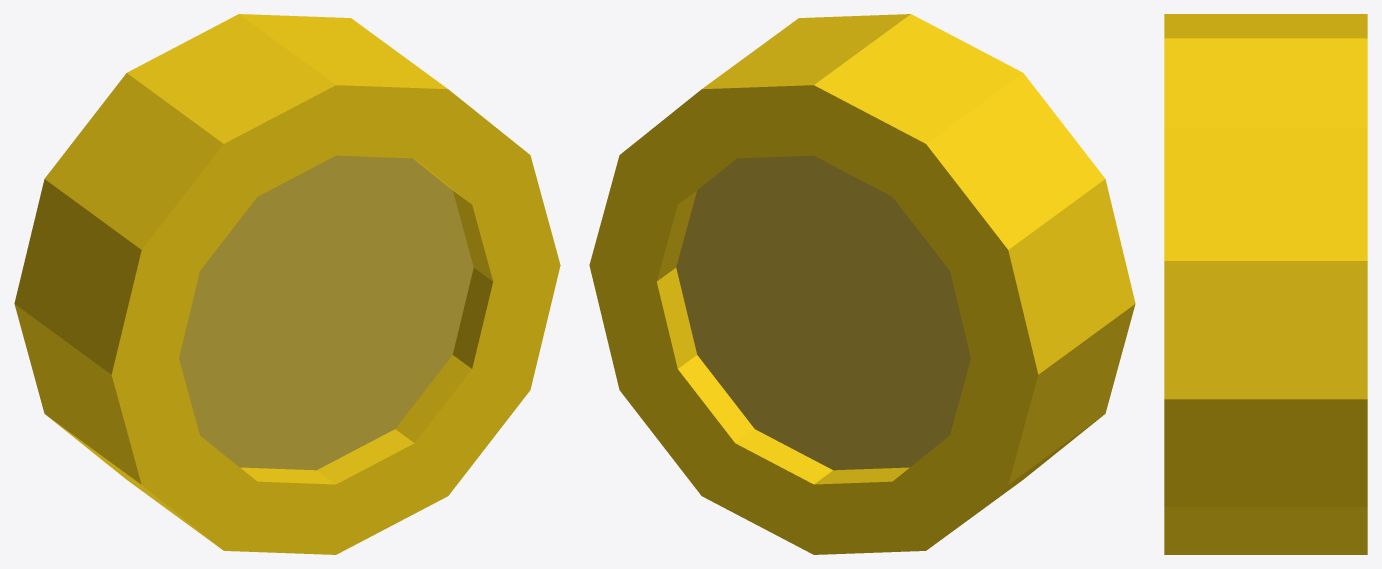
Rendered from Coin.fbx.
3 views of the same model, side by side, from view 1: azimuth 30°, elevation 25°; view 2: azimuth 150°, elevation 25°; view 3: azimuth 270°, elevation 25° (orthographic). The views are drawn at different scales.
Parts seen in each view (by area): view 1: Coin; view 2: Coin; view 3: Coin.
Boxes of the visible parts, x1,y1,x2,y2 form: Coin: [14, 14, 560, 554]; Coin: [589, 14, 1135, 554]; Coin: [1164, 14, 1367, 554].
Size of the model in its own units: 50 by 50 by 18.75.
